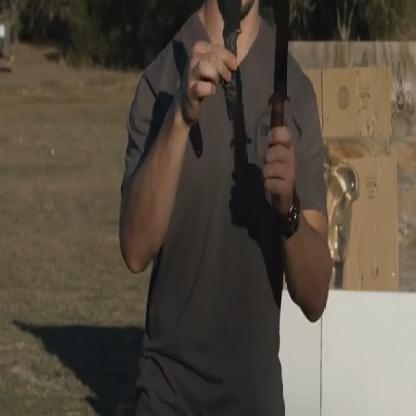knife: (254, 0, 299, 209), (203, 0, 246, 108)
